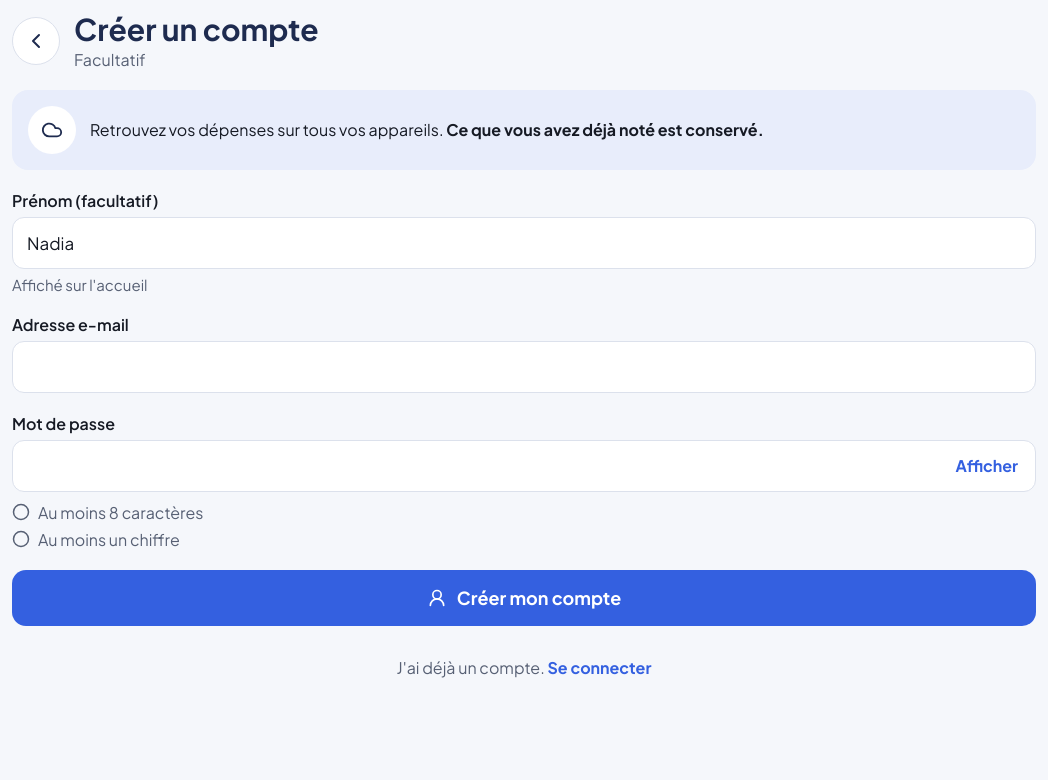
Créer un compte › adresse incomplète : erreur au champ, rien n’est envoyé
Type "yasmine@" into the field labelled "Adresse e-mail". click: (524, 366)
box: 12,340 -> 1036,392
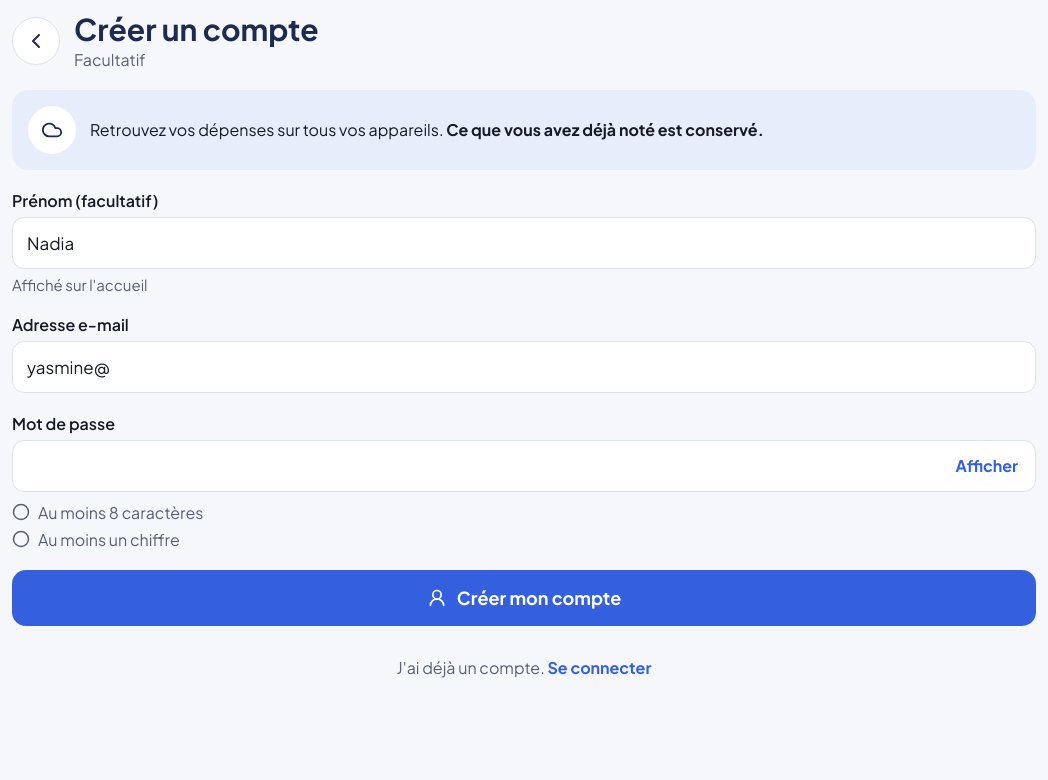
Type "abcdefg1" into the password field labelled "Mot de passe". click: (524, 466)
box: 12,440 -> 1036,492
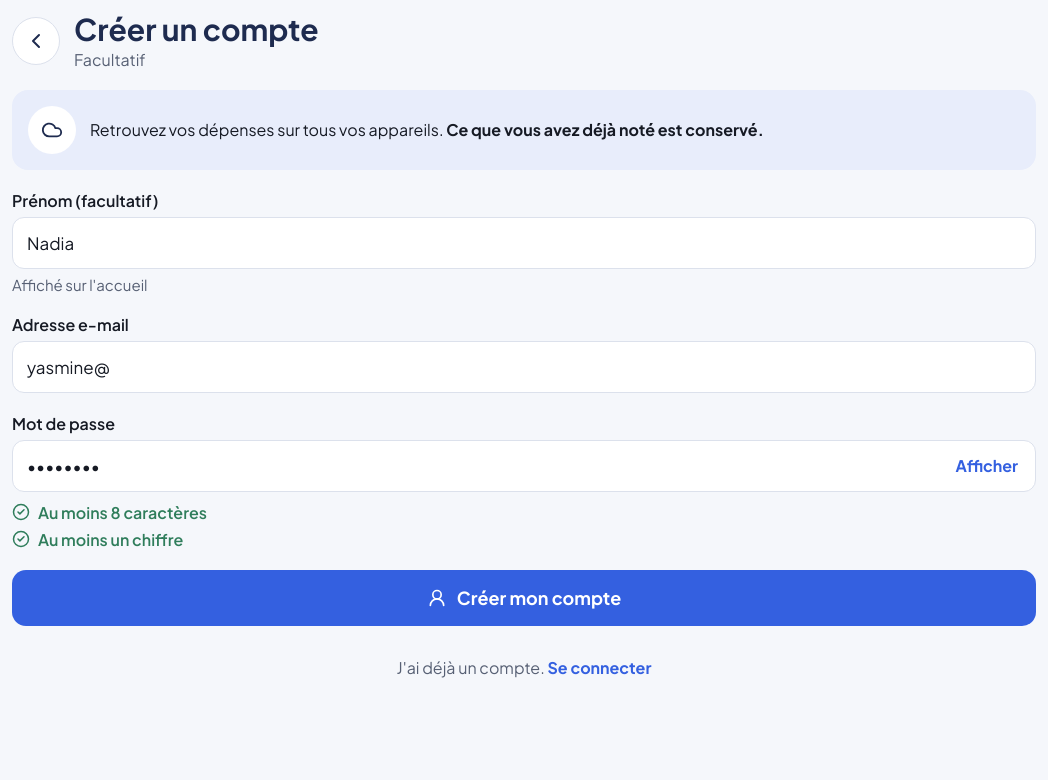
Click the button "Créer mon compte". click: (524, 598)
box: 12,570 -> 1036,626
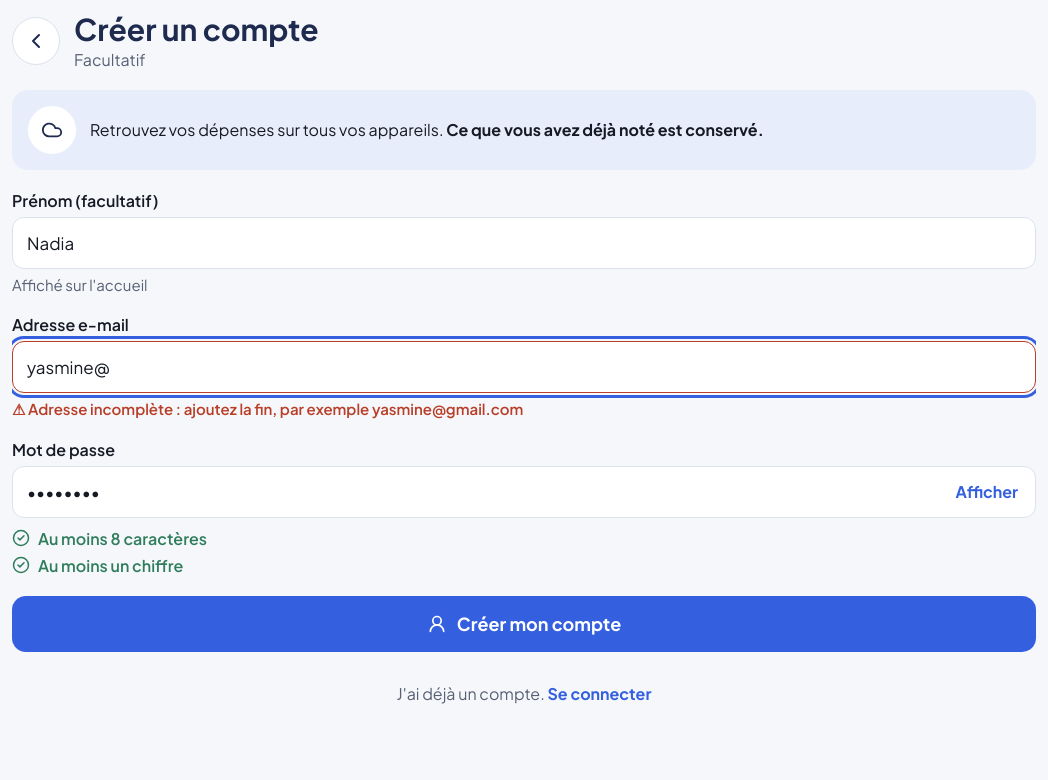
Check: the text "Adresse incomplète : ajoutez la fin, par exemple yasmine@gmail.com" is shown, box 28,398 -> 523,418
